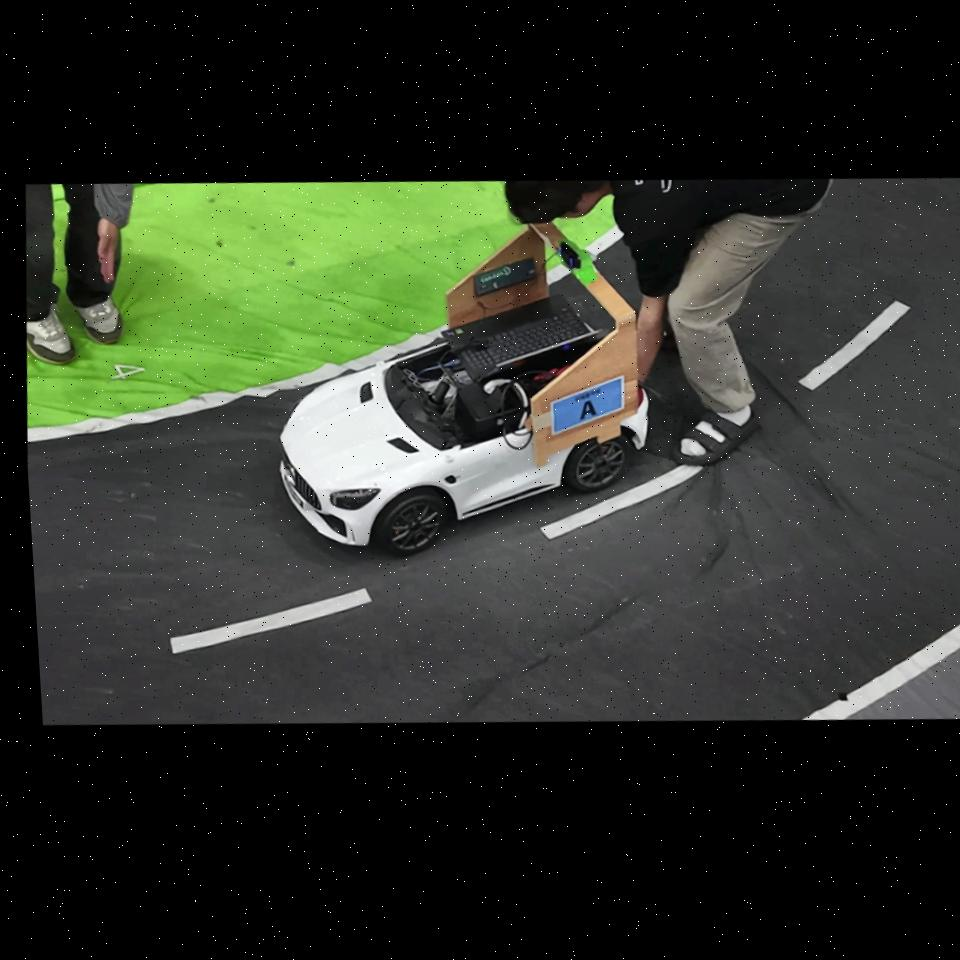broken_line: (171, 588, 372, 654), (540, 465, 704, 540), (798, 301, 911, 390)
